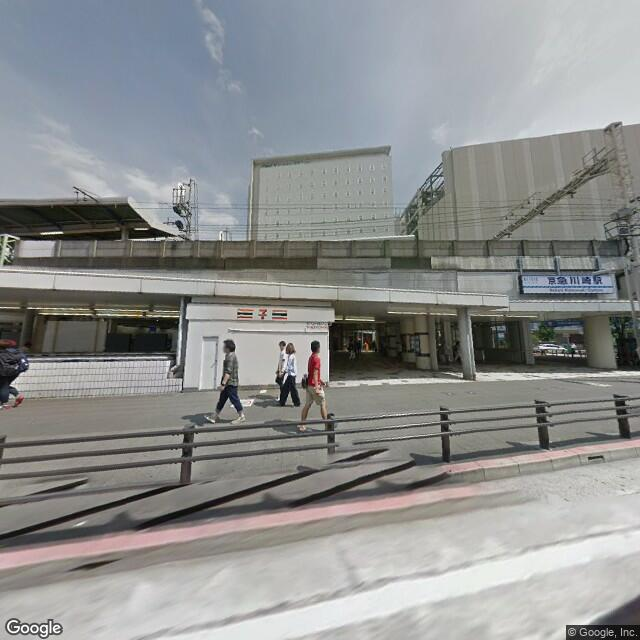7-eleven: (233, 303, 290, 324)
